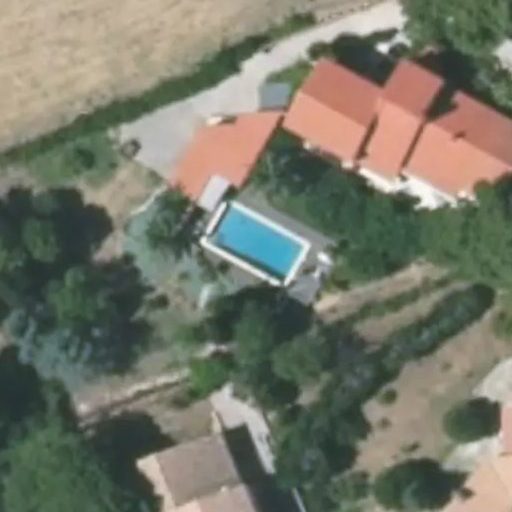pool: (206, 240, 306, 242)
